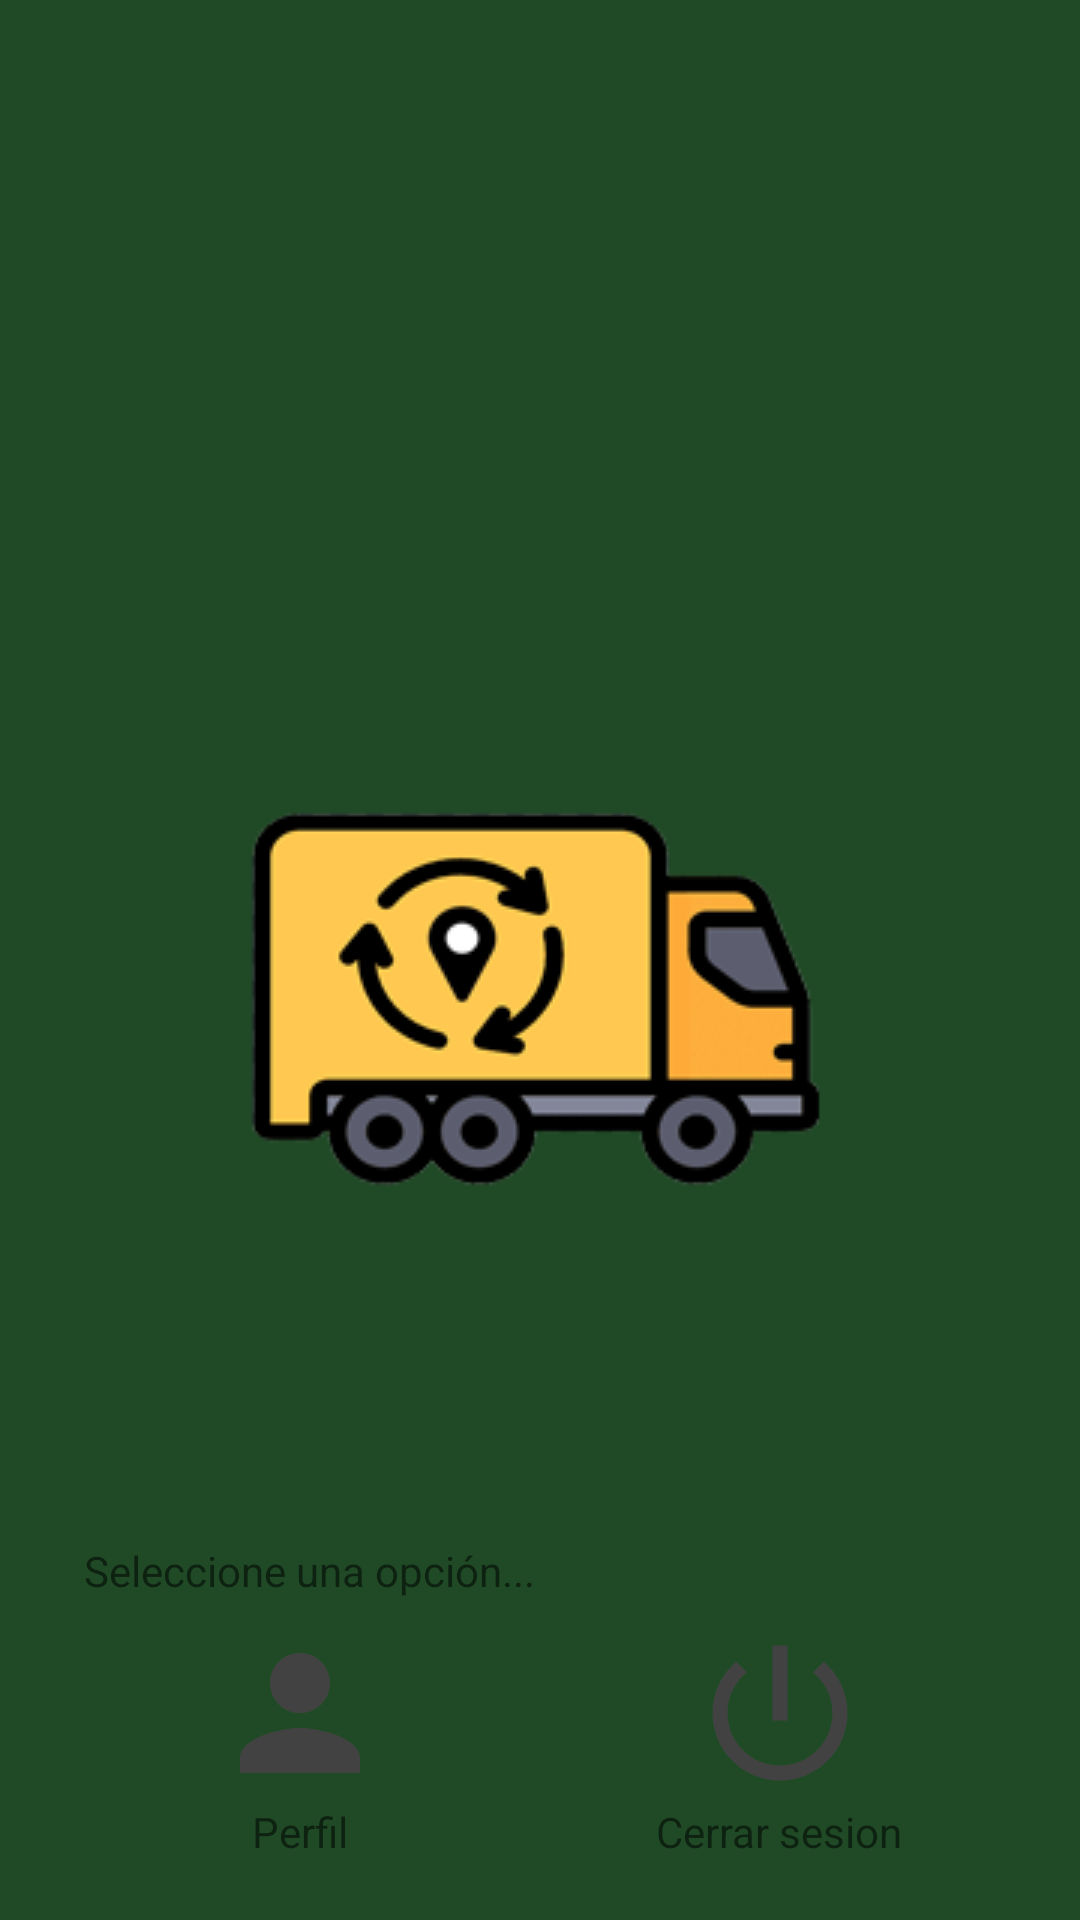

Named icons in this screenshot (1080×1920) and their centers, point (x, y):
person: point (300, 1713)
power: point (780, 1713)
